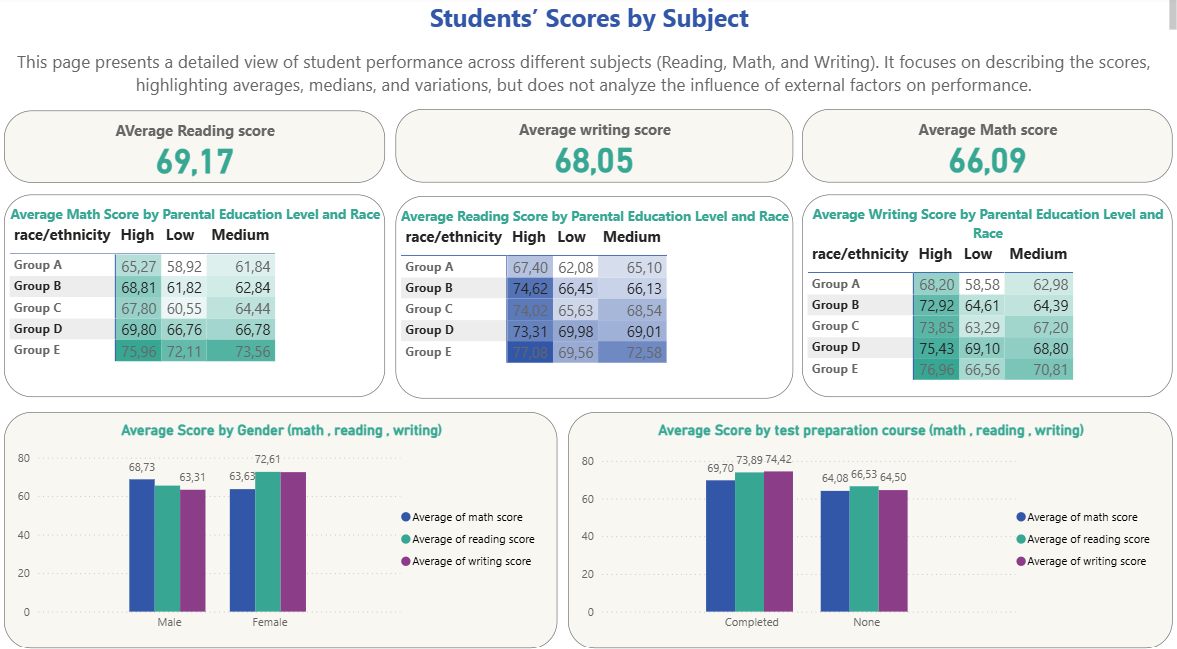

What the dashboard file says about the page in this screenshot:
{"tool":"powerbi","page":{"name":"Students’ Scores by Subject","canvas":[1280,720],"ordinal":3},"visuals":[{"type":"textbox","box":[9.7,0,1271.1,43.7],"z":0},{"type":"textbox","box":[0,53.4,1271.1,69.6],"z":1000},{"type":"clusteredColumnChart","title":"Average Score by Gender (math , reading , writing)","fields":{"Category":["StudentsPerformance1.gender"],"Y":["Avg(StudentsPerformance1.math score)","Avg(StudentsPerformance1.reading score)","Avg(StudentsPerformance1.writing score)"]},"box":[9.7,450.1,597.5,255.8],"z":2000},{"type":"clusteredColumnChart","title":"Average Score by test preparation course  (math , reading , writing)","fields":{"Y":["Avg(StudentsPerformance1.math score)","Avg(StudentsPerformance1.reading score)","Avg(StudentsPerformance1.writing score)"],"Category":["StudentsPerformance1.test preparation course"]},"box":[618.5,450.1,652.5,255.8],"z":3000},{"type":"card","title":"AVerage Reading score","fields":{"Values":["StudentsPerformance1.Average Reading Score"]},"box":[9.7,124.7,411.3,77.7],"z":4000},{"type":"card","title":"Average writing score","fields":{"Values":["StudentsPerformance1.Average Writing Score"]},"box":[432.3,123.1,429.1,79.3],"z":5000},{"type":"card","title":"Average Math score","fields":{"Values":["StudentsPerformance1.Average Math Score"]},"box":[871.1,123.1,399.9,79.3],"z":6000},{"type":"pivotTable","title":"Average Math Score by Parental Education Level and Race","fields":{"Rows":["StudentsPerformance1.race/ethnicity"],"Columns":["StudentsPerformance1.parental_level_education_grouped"],"Values":["Avg(StudentsPerformance1.math score)"]},"box":[9.7,215.4,411.3,218.6],"z":7000},{"type":"pivotTable","title":"Average Reading Score by Parental Education Level and Race","fields":{"Rows":["StudentsPerformance1.race/ethnicity"],"Columns":["StudentsPerformance1.parental_level_education_grouped"],"Values":["Avg(StudentsPerformance1.reading score)"]},"box":[432.3,217,429.1,218.6],"z":8000},{"type":"pivotTable","title":"Average Writing Score by Parental Education Level and Race","fields":{"Rows":["StudentsPerformance1.race/ethnicity"],"Columns":["StudentsPerformance1.parental_level_education_grouped"],"Values":["Avg(StudentsPerformance1.writing score)"]},"box":[871.1,215.4,399.9,218.6],"z":9000}]}

Visuals, with their boxes in screenshot pixels (x1, y1, x2, y2), scaled from the page's 1280x720 canvas onto the 1177x649 screenshot:
textbox: {"x1": 9, "y1": 0, "x2": 1176, "y2": 39}
textbox: {"x1": 0, "y1": 48, "x2": 1169, "y2": 111}
"Average Score by Gender (math , reading , writing)" clusteredColumnChart: {"x1": 9, "y1": 406, "x2": 558, "y2": 636}
"Average Score by test preparation course  (math , reading , writing)" clusteredColumnChart: {"x1": 569, "y1": 406, "x2": 1169, "y2": 636}
"AVerage Reading score" card: {"x1": 9, "y1": 112, "x2": 387, "y2": 182}
"Average writing score" card: {"x1": 398, "y1": 111, "x2": 792, "y2": 182}
"Average Math score" card: {"x1": 801, "y1": 111, "x2": 1169, "y2": 182}
"Average Math Score by Parental Education Level and Race" pivotTable: {"x1": 9, "y1": 194, "x2": 387, "y2": 391}
"Average Reading Score by Parental Education Level and Race" pivotTable: {"x1": 398, "y1": 196, "x2": 792, "y2": 393}
"Average Writing Score by Parental Education Level and Race" pivotTable: {"x1": 801, "y1": 194, "x2": 1169, "y2": 391}
